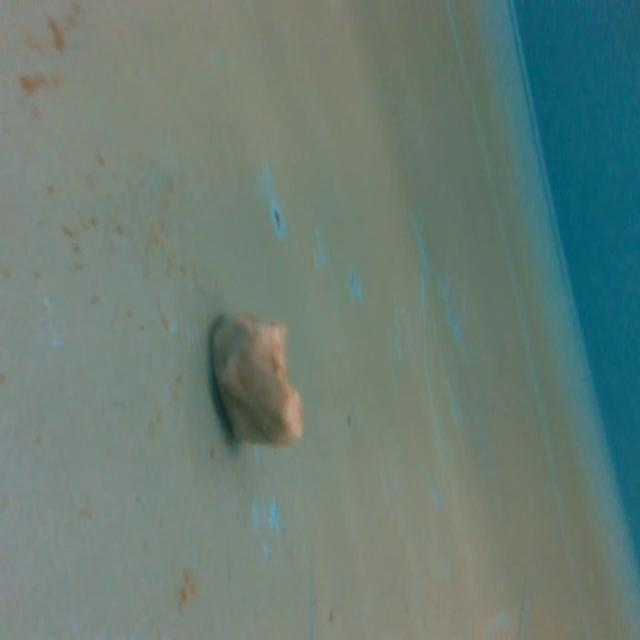rock: (203, 310, 304, 454)
